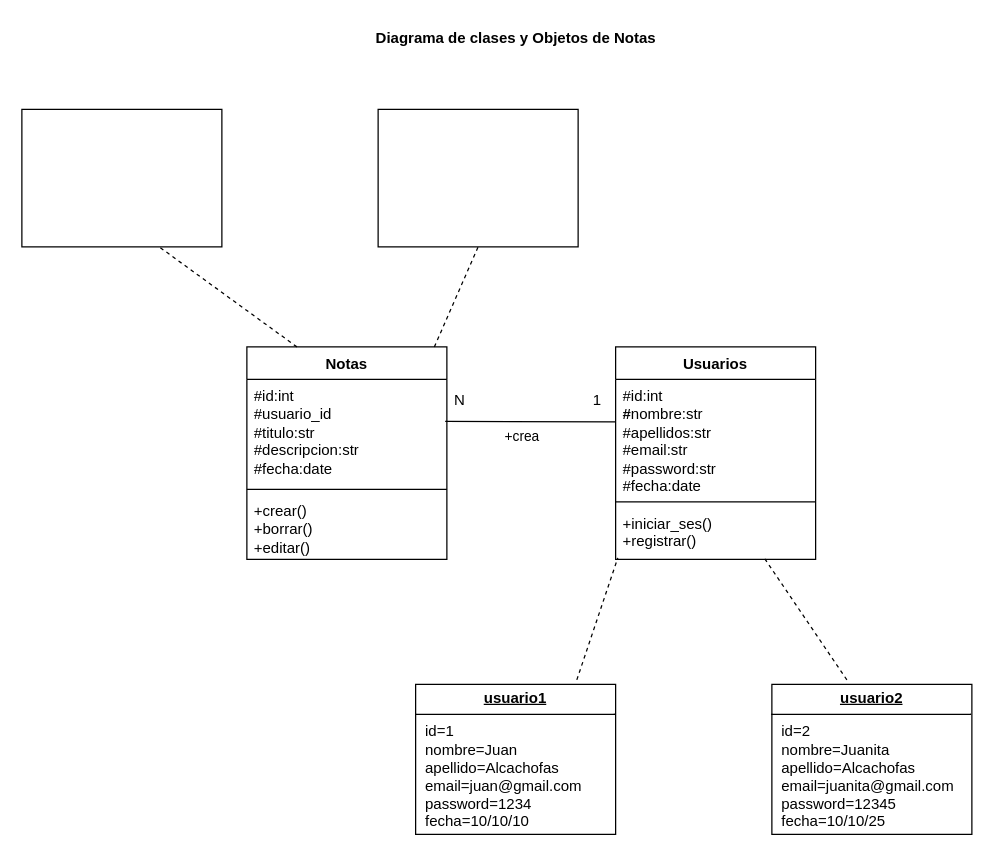
This 994x856 diagram has some shape labels left out. The shapes that lost their labels are listed below. From the top down, each one's box as (x1, y1, x2, y2) in pixels, then its label:
(21, 108, 222, 247): nota1:Notas id=1 usuario_id=1 titulo = hola descripcion=holaaa fecha=11/10/10
(377, 108, 578, 247): nota2:Notas id=45 usuario_id=2 titulo = adios descripcion=adiosss fecha=11/10/25
